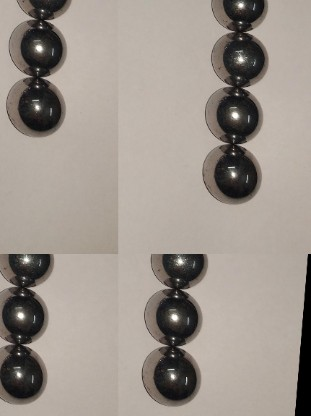ironball: (3, 73, 82, 143), (194, 140, 266, 208), (3, 14, 70, 80), (141, 340, 205, 409), (136, 286, 204, 348), (204, 33, 278, 89), (0, 339, 50, 409), (202, 92, 264, 145), (0, 287, 51, 344), (0, 253, 58, 293), (142, 252, 210, 286), (0, 0, 73, 25), (209, 0, 268, 29)
